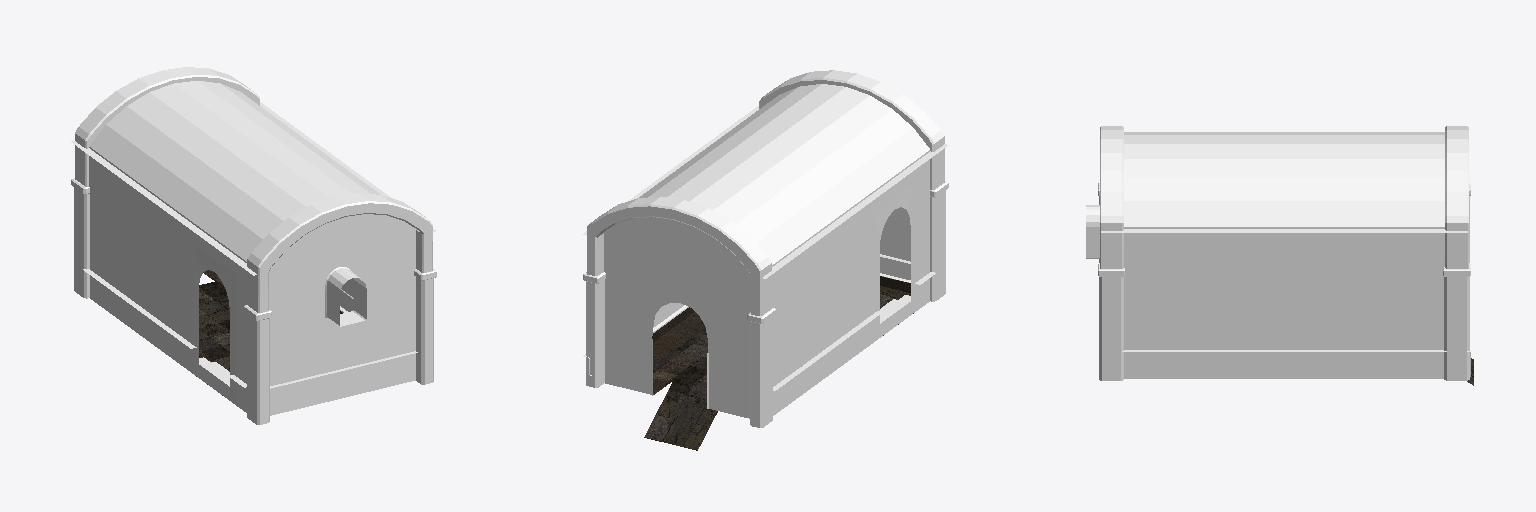
3 views of the same model, side by side, from view 1: azimuth 30°, elevation 25°; view 2: azimuth 150°, elevation 25°; view 3: azimuth 270°, elevation 25° (orthographic).
Parts seen in each view (by area): view 1: mesh6, mesh3, mesh2, mesh1, mesh5, mesh0; view 2: mesh6, mesh3, mesh2, mesh5, mesh1, mesh4, mesh0; view 3: mesh6, mesh3, mesh2, mesh1.
Boxes of the visible parts, x1=… form: mesh6: x1=89, y1=81, x2=415, y2=415; mesh3: x1=71, y1=67, x2=436, y2=320; mesh2: x1=74, y1=187, x2=433, y2=424; mesh1: x1=71, y1=102, x2=435, y2=388; mesh5: x1=196, y1=272, x2=229, y2=395; mesh0: x1=195, y1=357, x2=233, y2=403; mesh6: x1=604, y1=84, x2=929, y2=418; mesh3: x1=583, y1=70, x2=948, y2=323; mesh2: x1=586, y1=190, x2=945, y2=427; mesh5: x1=644, y1=289, x2=913, y2=450; mesh1: x1=583, y1=106, x2=947, y2=390; mesh4: x1=652, y1=276, x2=910, y2=392; mesh0: x1=876, y1=295, x2=916, y2=340; mesh6: x1=1086, y1=132, x2=1444, y2=378; mesh3: x1=1098, y1=126, x2=1470, y2=276; mesh2: x1=1099, y1=196, x2=1469, y2=380; mesh1: x1=1101, y1=229, x2=1470, y2=376.
Size of the model in its own units: 5.45 by 6.65 by 10.
Materials: 7 (2 with a texture image).